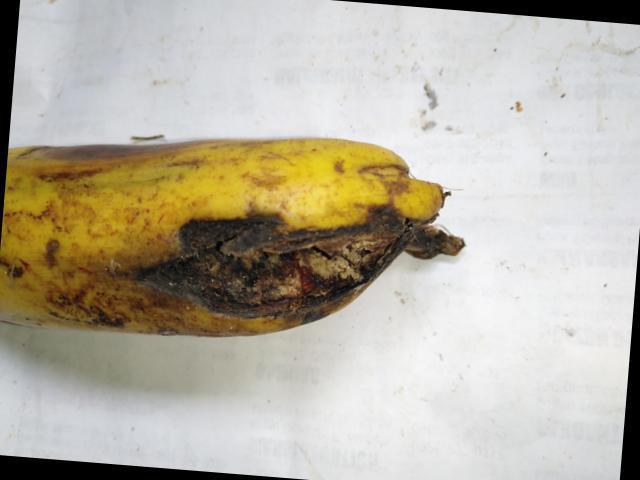ripe: (0, 122, 412, 347)
rotten: (138, 207, 473, 341), (17, 102, 207, 176)
